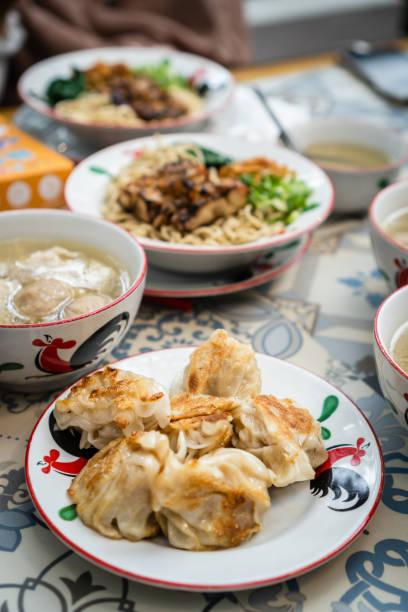Braised Crucian Carp: (28, 346, 381, 588), (64, 134, 333, 278), (0, 208, 148, 384)
